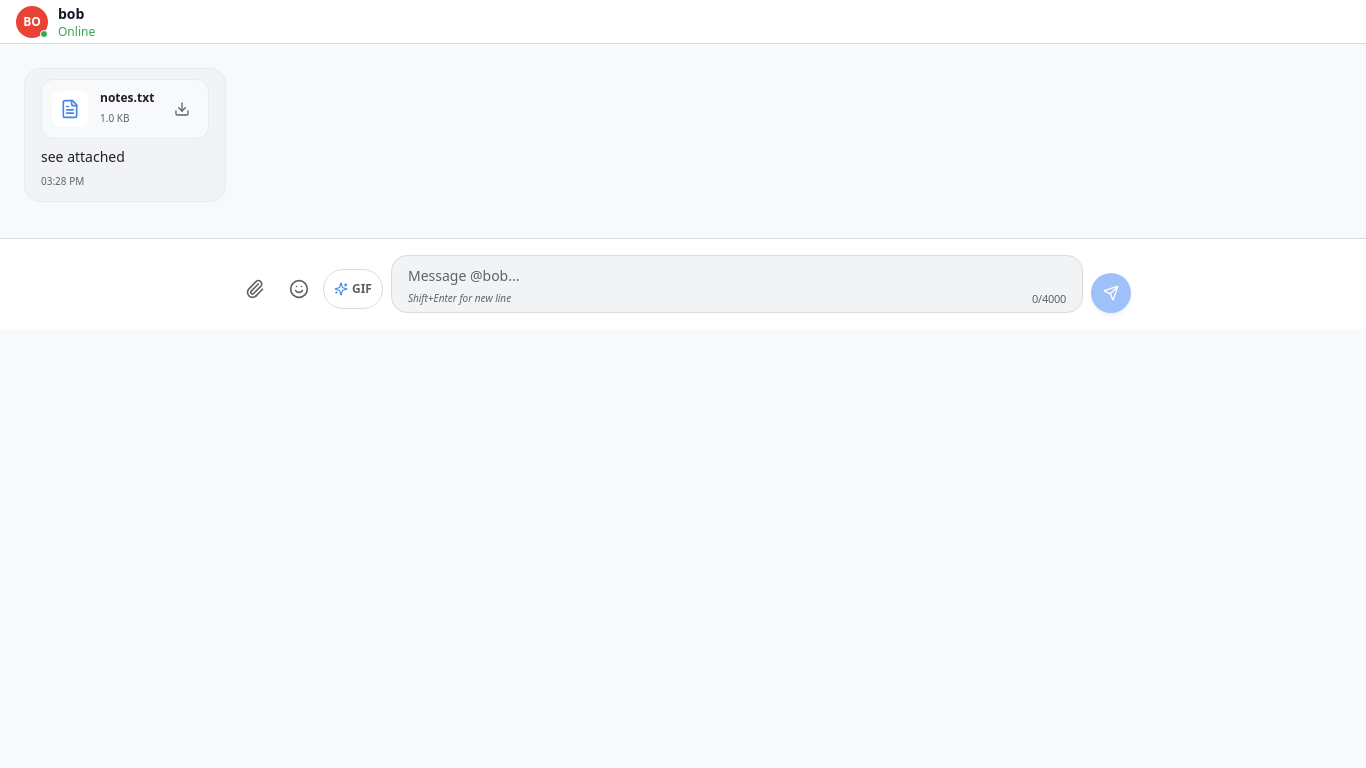
Refreshing an expired signed URL (ADR 0009) › a text preview whose fetch fails is retried once with a refreshed URL
This screenshot has width=1366, height=768.
Click the element with test id "document-attachment-card" at (125,109), box 41,79 -> 209,139
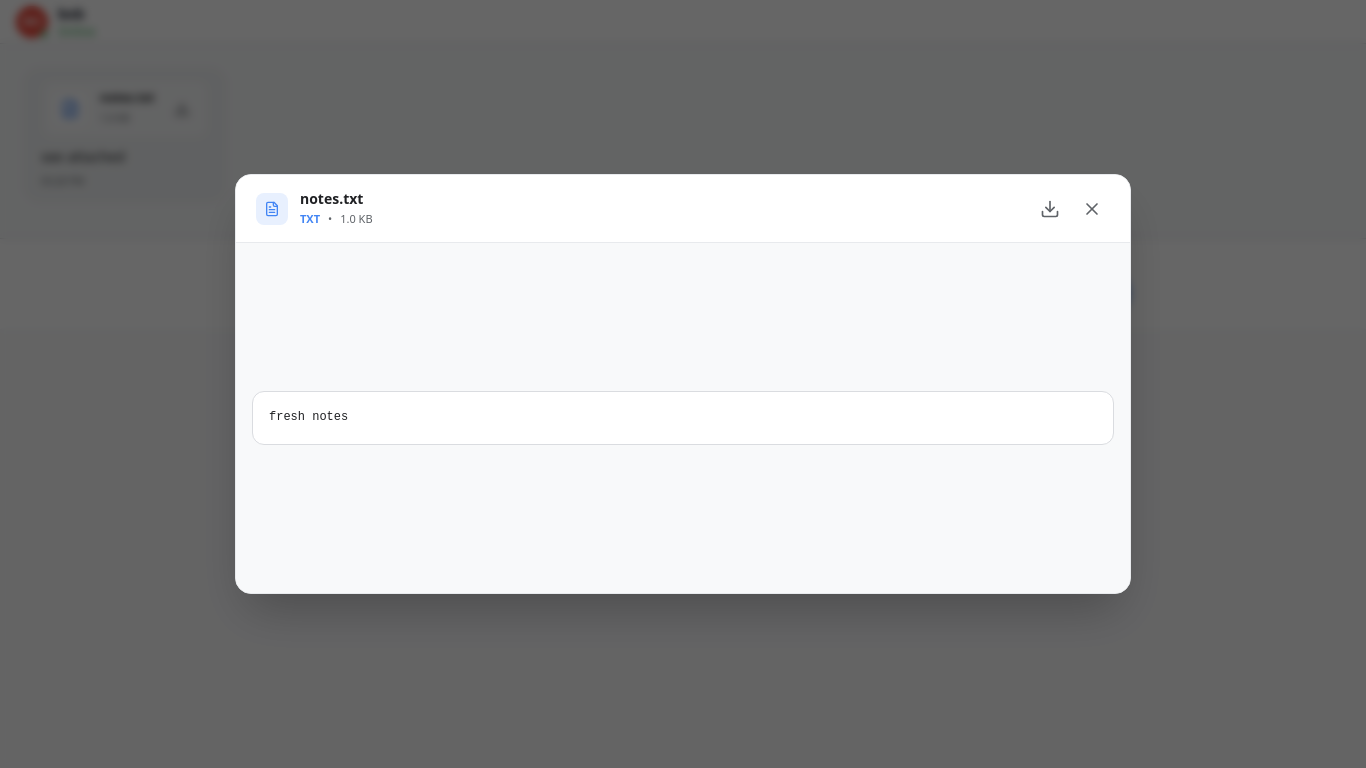
Expected: the text with test id "text-preview-content" reads "fresh notes", 269,410 -> 348,424
